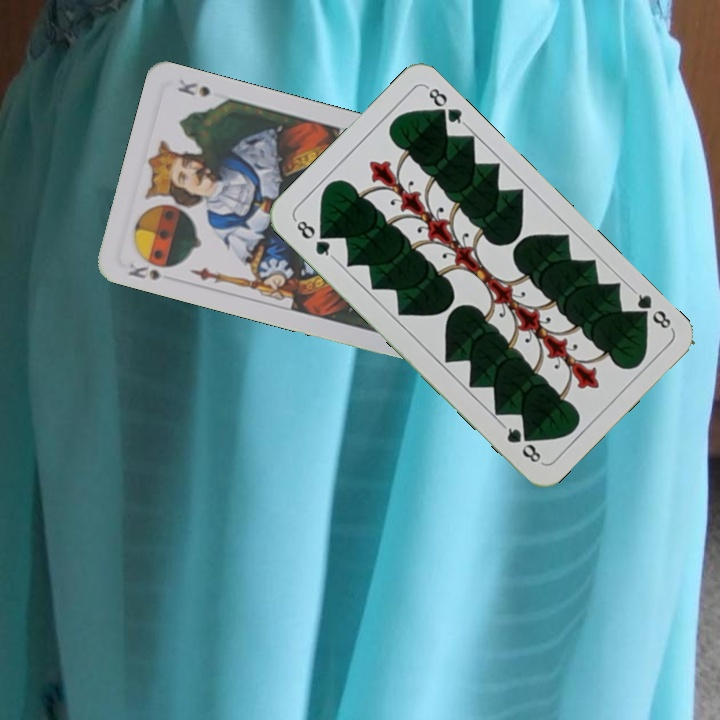G8: (290, 214, 337, 261), (629, 285, 675, 332)
SK: (124, 253, 178, 283)
